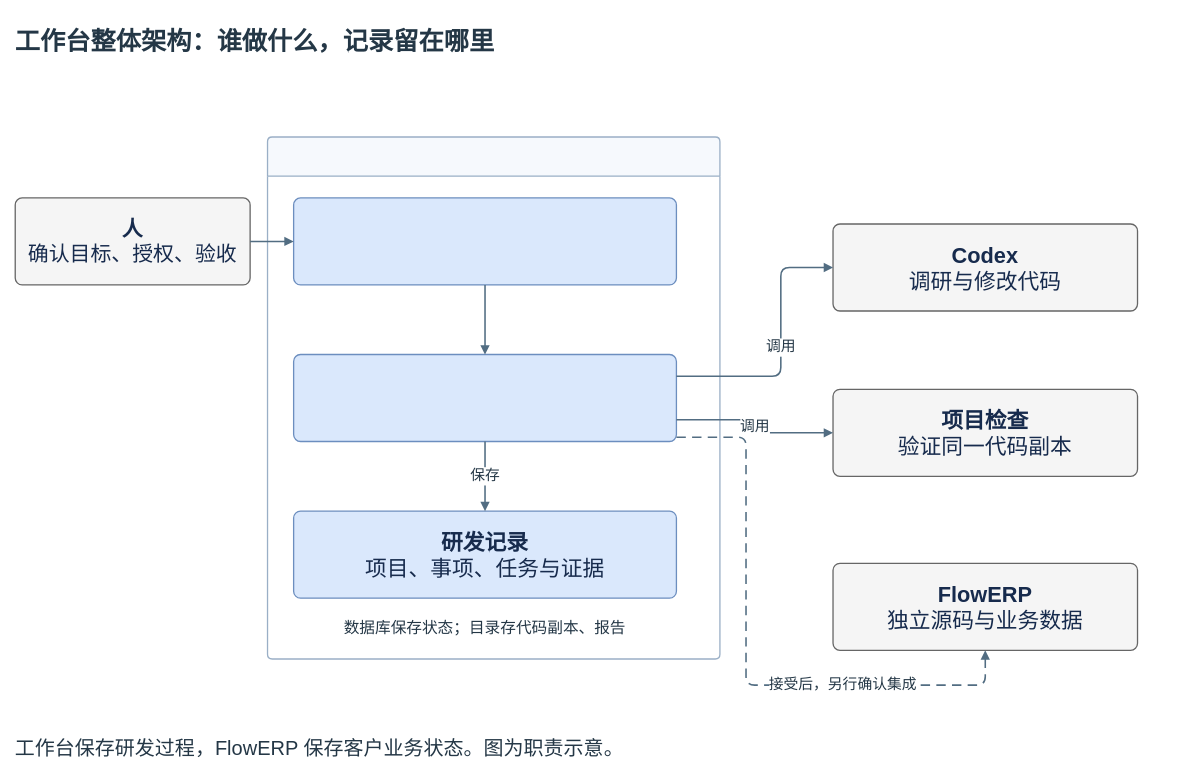
The diagram is 1179 pixels wide and 782 high, and some of its shapes have lost their labels. Each missing label, with the box of its shape:
个人研发工作台 · :8001: (266, 136, 720, 659)
后台服务 组织调研、执行与验收: (293, 353, 677, 442)
操作页面 提出需求、查看结果: (293, 197, 677, 285)
